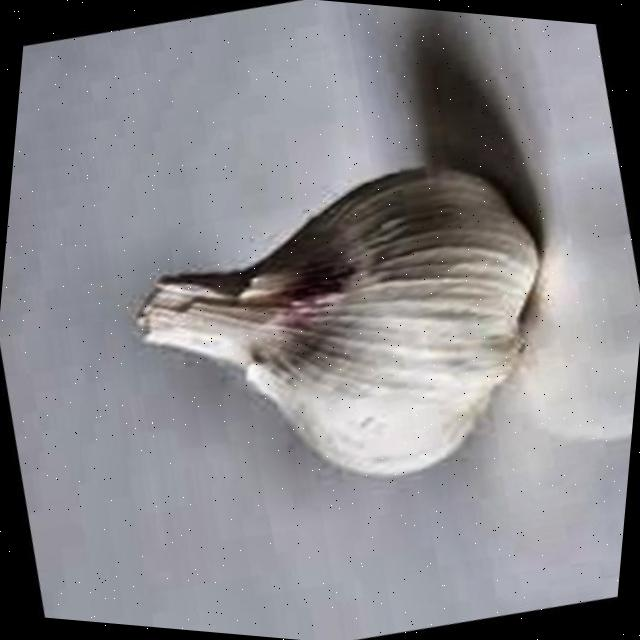garlic: (133, 167, 538, 474)
